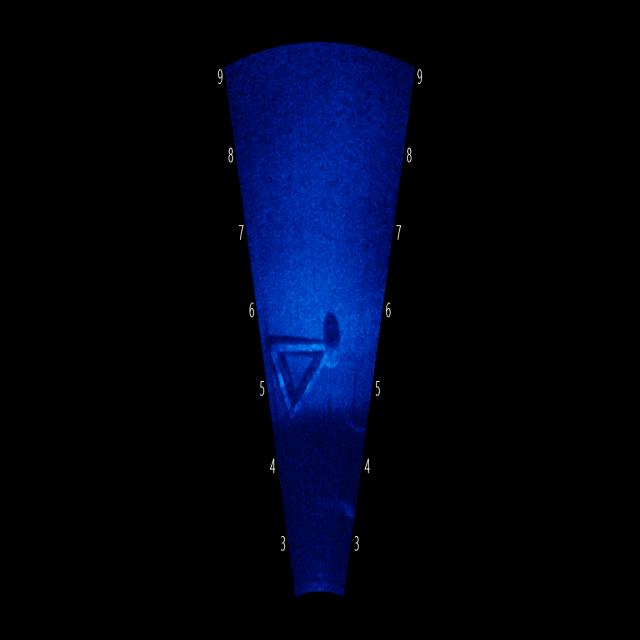triangle: (269, 283, 352, 437)
